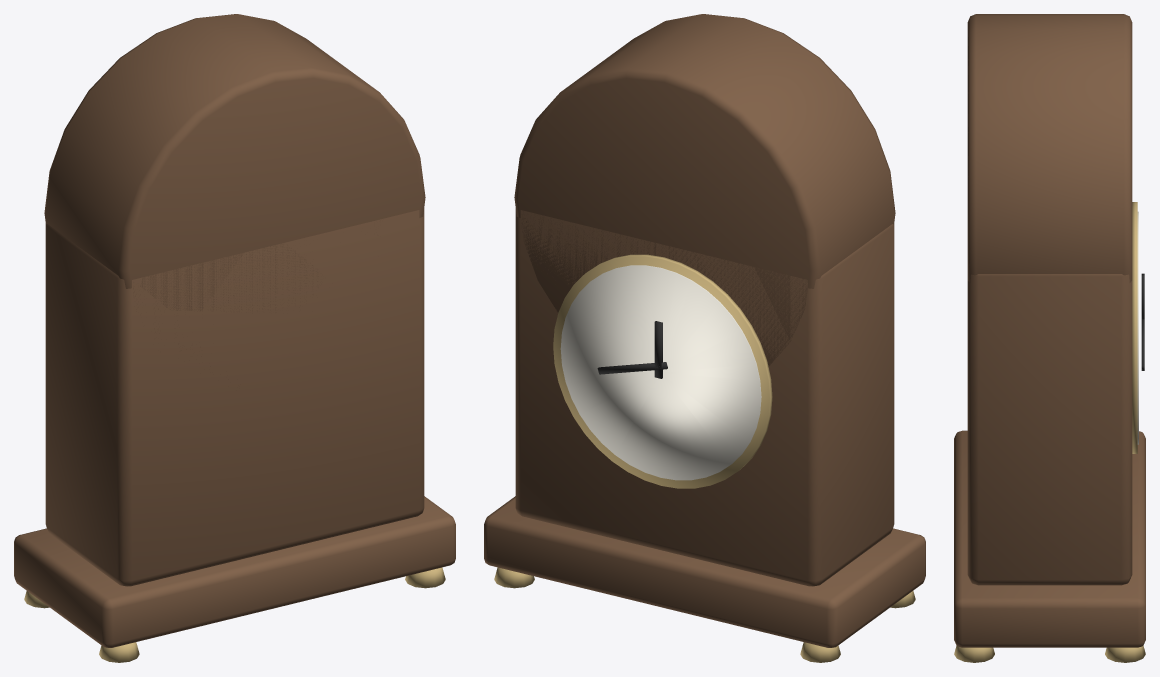
Rendered from mantel_clock.glb.
The picture shows the model from 3 angles, left to right: view 1: azimuth 30°, elevation 25°; view 2: azimuth 150°, elevation 25°; view 3: azimuth 270°, elevation 25°; orthographic projection.
Visible parts, largest first — view 1: mantel_clock; view 2: mantel_clock; view 3: mantel_clock.
Part boxes in pixels (bbox=[...]): mantel_clock: bbox=[14, 14, 455, 662]; mantel_clock: bbox=[484, 14, 925, 662]; mantel_clock: bbox=[954, 14, 1145, 662].
Size of the model in its own units: 0.3 by 0.442 by 0.14.
